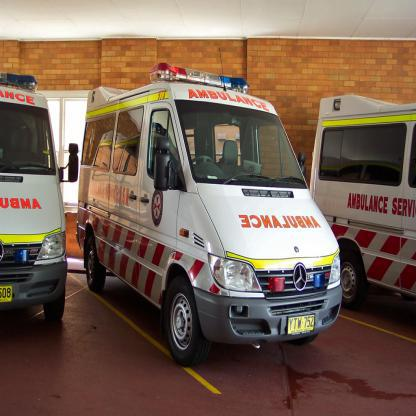bus: (76, 63, 344, 366), (310, 95, 416, 310), (1, 71, 80, 324)
